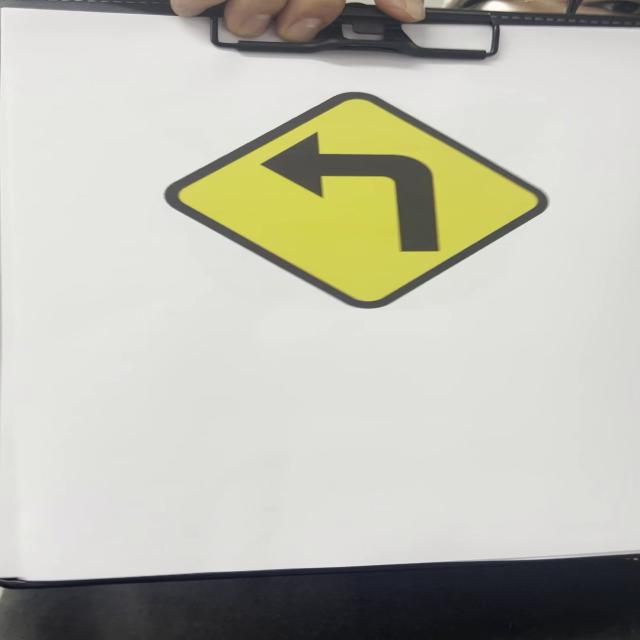left: (164, 90, 555, 311)
